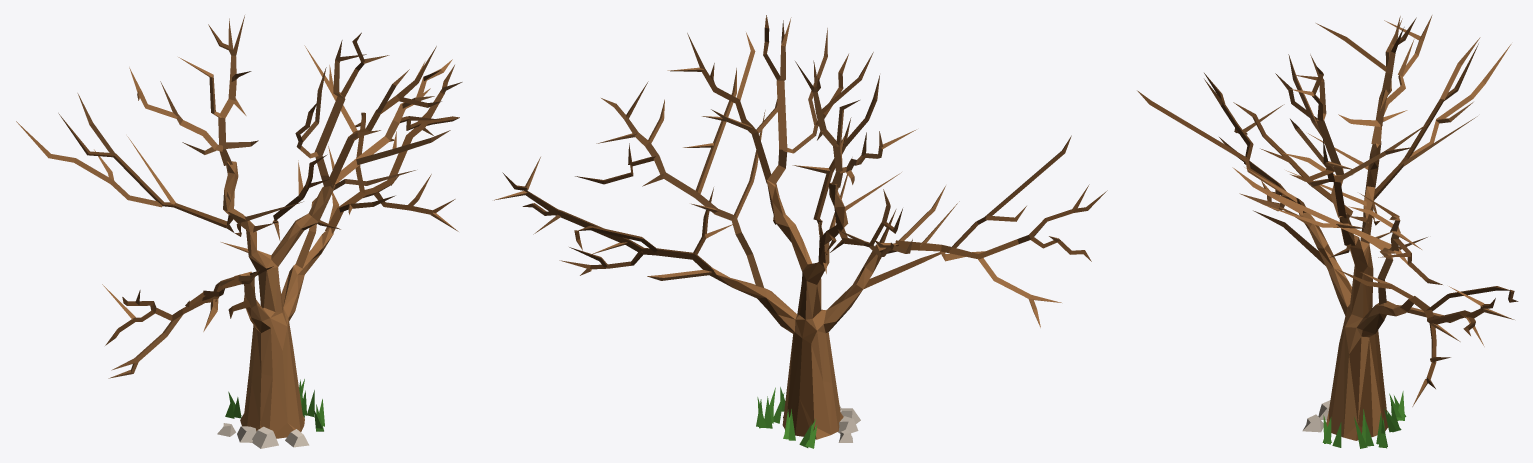
Rendered from maple_bare.glb.
3 renders of one model, left to right at view 1: azimuth 30°, elevation 25°; view 2: azimuth 150°, elevation 25°; view 3: azimuth 270°, elevation 25°, orthographic. The views are drawn at different scales.
Visible parts, largest first — view 1: maple_bare; view 2: maple_bare; view 3: maple_bare.
Boxes of the visible parts, left/top/right/bottom form: maple_bare: left=16, top=15, right=462, bottom=448; maple_bare: left=494, top=15, right=1107, bottom=448; maple_bare: left=1137, top=15, right=1518, bottom=448.
Bounding box in the file's own units: 7.93 × 6.34 × 5.44.
